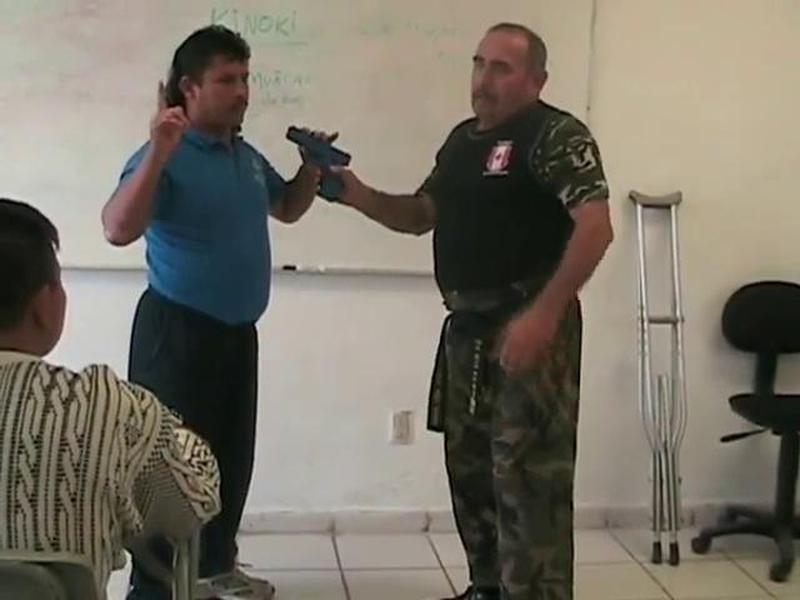Pistola: (272, 119, 365, 212)
